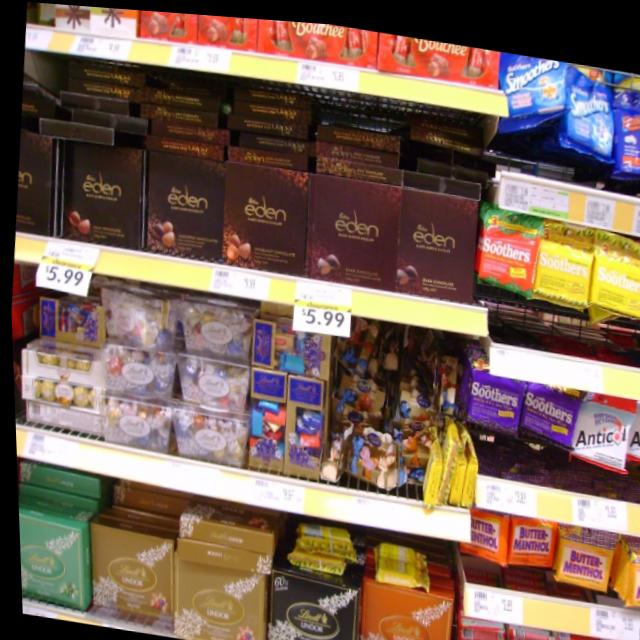q112: (78, 518, 175, 635), (164, 546, 266, 640)
q115: (257, 554, 354, 640)
